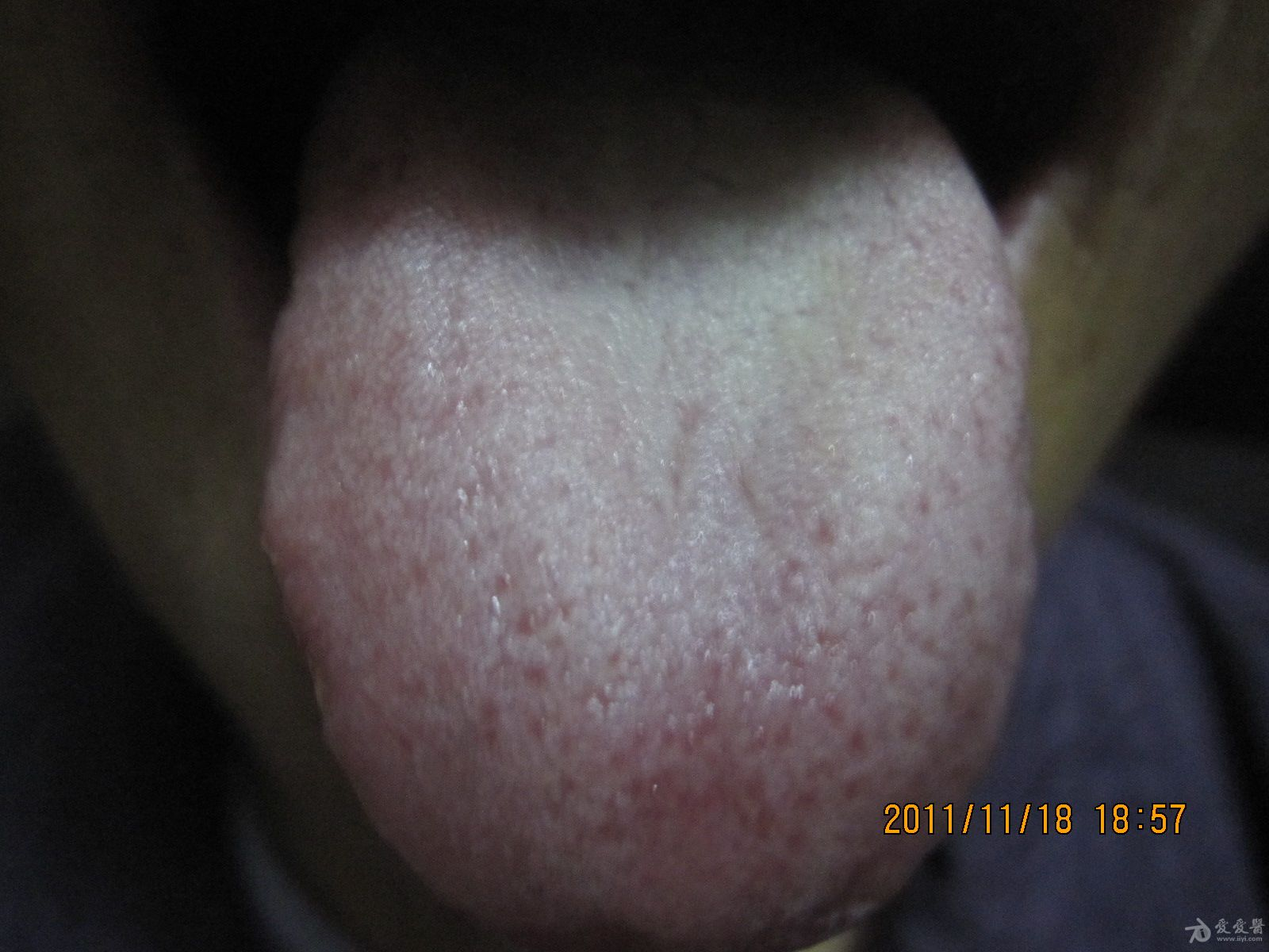baitaishe: (261, 90, 1034, 952)
hongdianshe: (507, 620, 908, 868)
